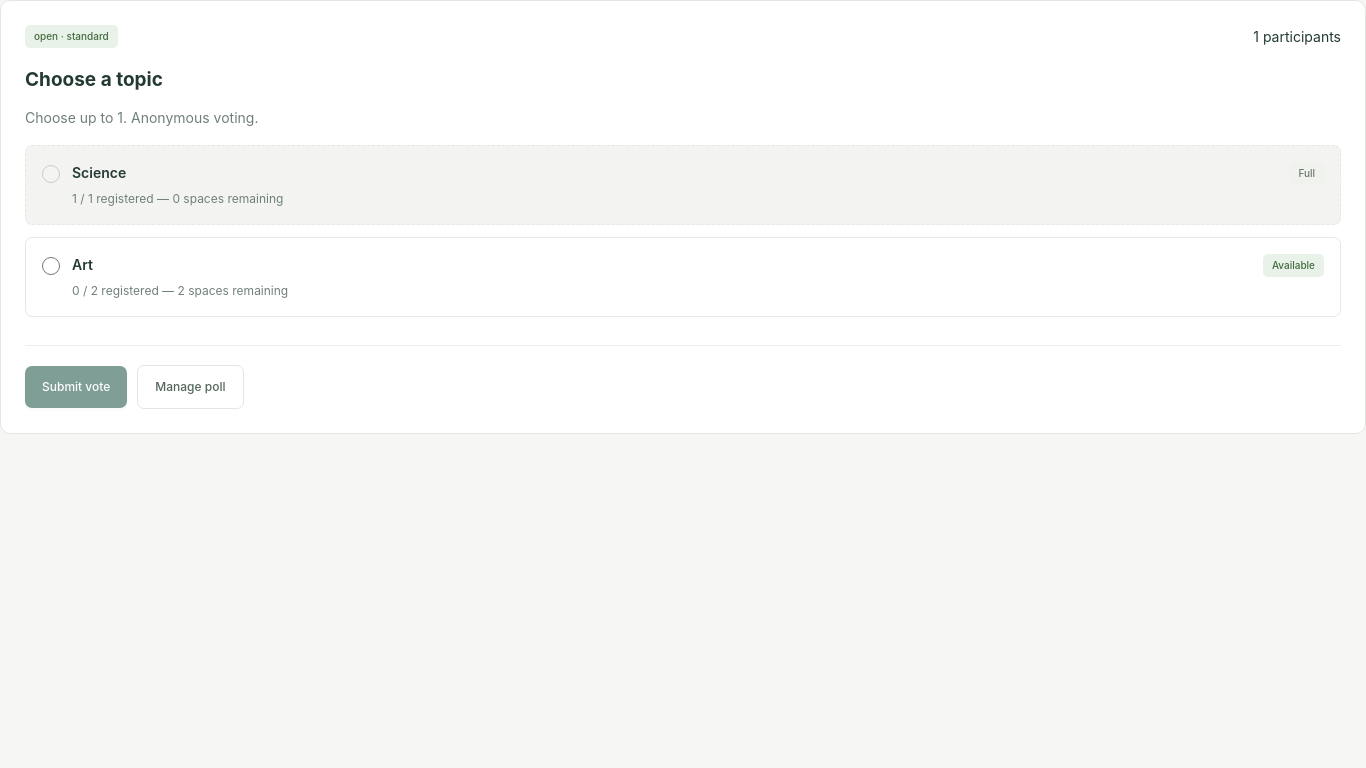
it: Polling interface › shows anonymous aggregate management without fetching a participant list
This screenshot has width=1366, height=768.
Click the button "Manage poll".
click(190, 387)  # box [137,365,244,409]
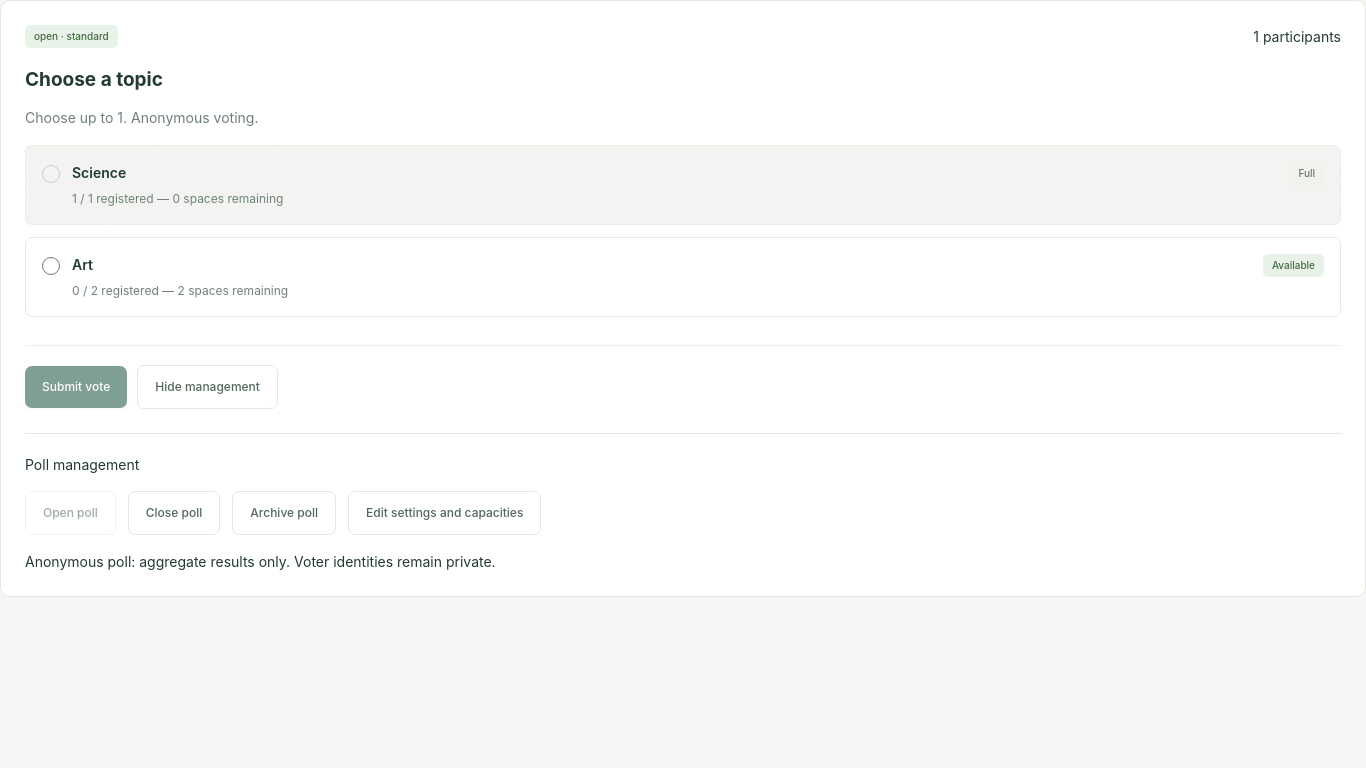
Now the text "Voter identities remain private" is shown, box [25,553,496,570]
